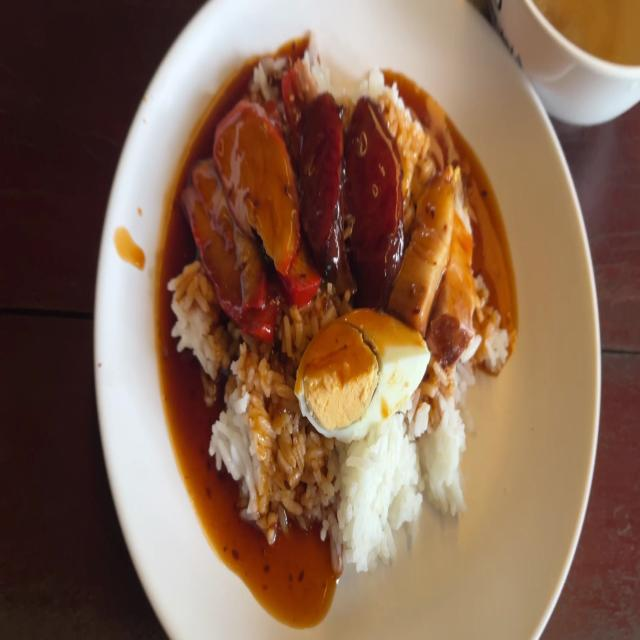01boiled_egg: (305, 301, 425, 432)
01chainese_sausage: (295, 95, 408, 278), (353, 105, 398, 295), (296, 96, 343, 265)
01crispy_pork: (400, 163, 477, 340), (407, 183, 448, 320), (441, 197, 477, 334)
01red_pork: (194, 109, 312, 328), (192, 171, 272, 333), (228, 106, 308, 254)
01red_pork_and_crispy_pork: (172, 41, 508, 556)
01rice: (306, 432, 471, 550), (214, 353, 298, 522), (175, 254, 214, 362)
